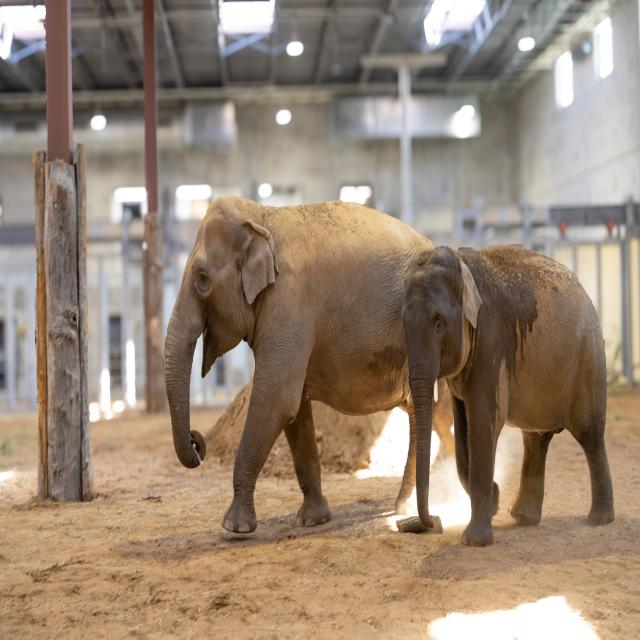Elephant: (157, 185, 388, 525), (400, 232, 617, 534)
